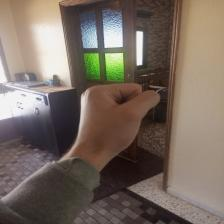five: (72, 82, 160, 166)
